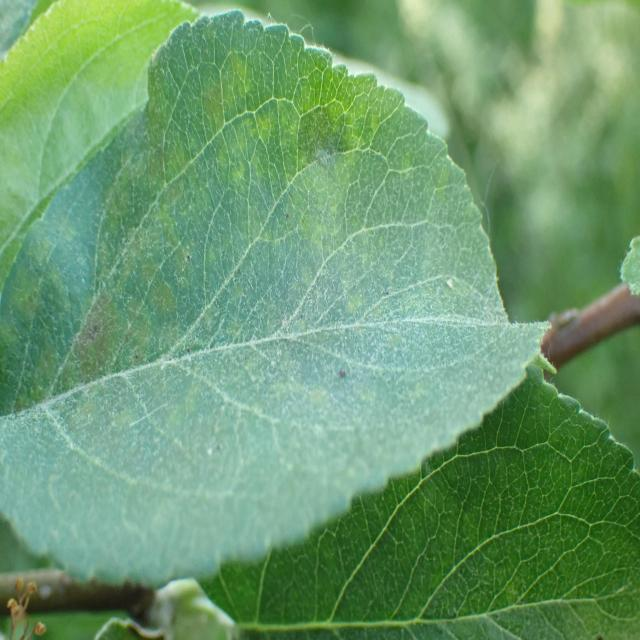scab: (0, 51, 463, 502)
